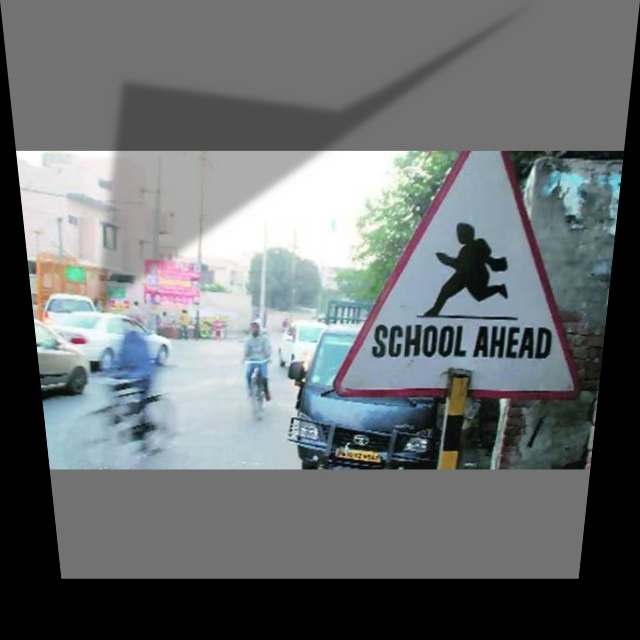School_Ahead: (358, 177, 584, 377)
